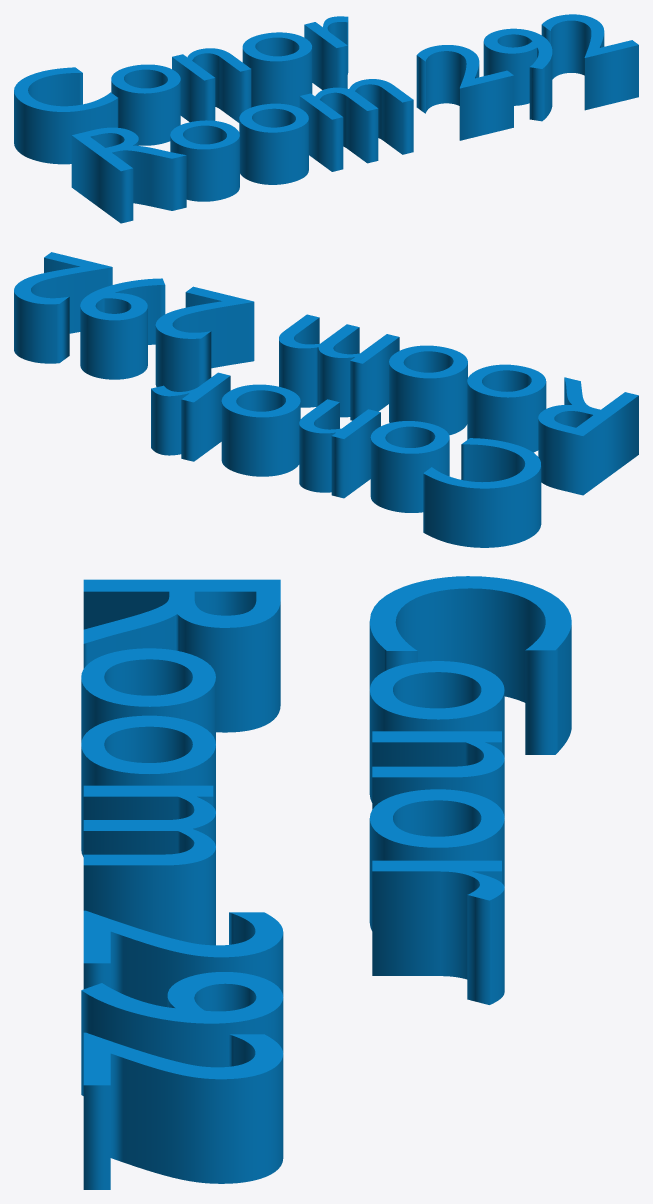
The model's file is conor-292.gltf.
The picture shows the model from 3 angles, top to bottom: view 1: azimuth 30°, elevation 25°; view 2: azimuth 150°, elevation 25°; view 3: azimuth 270°, elevation 25°; orthographic projection. The views are drawn at different scales.
Visible parts, largest first — view 1: Text; view 2: Text; view 3: Text.
Boxes of the visible parts, box(x1,y1,x2,y2) form: Text: box(14, 14, 638, 223); Text: box(14, 252, 638, 547); Text: box(81, 576, 571, 1189).
Size of the model in its own units: 4.18 by 0.4 by 1.7.
